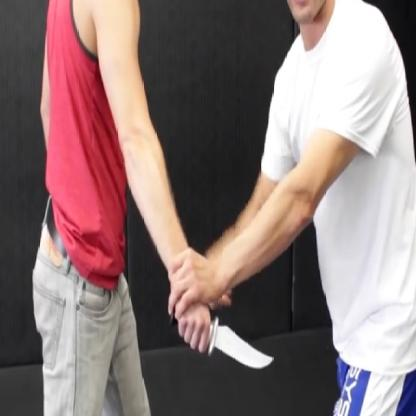knife: (168, 311, 276, 380)
